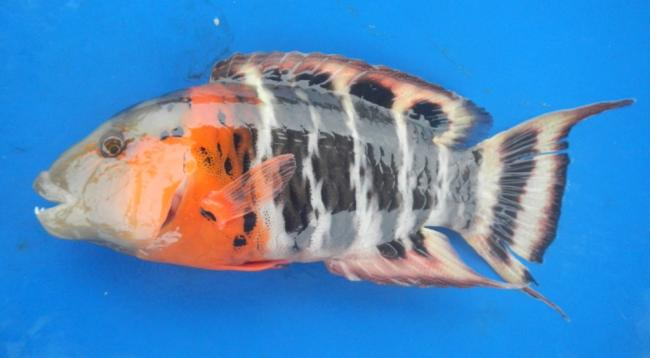fish: (34, 52, 636, 320)
